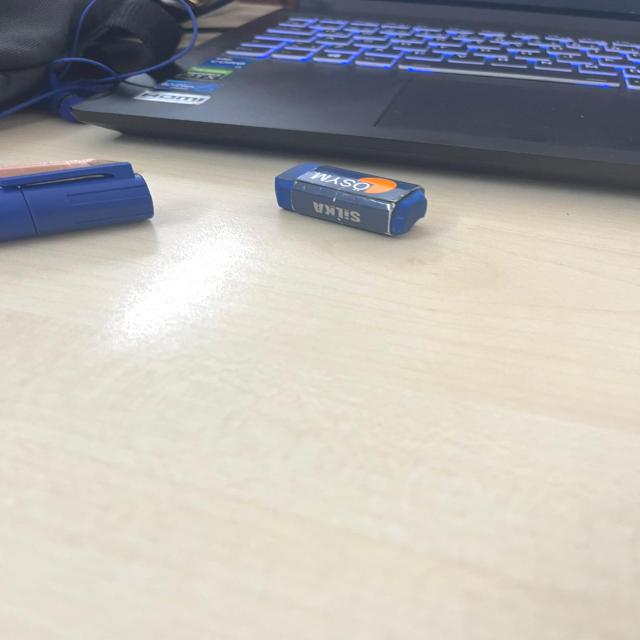eraser: (258, 143, 450, 242)
